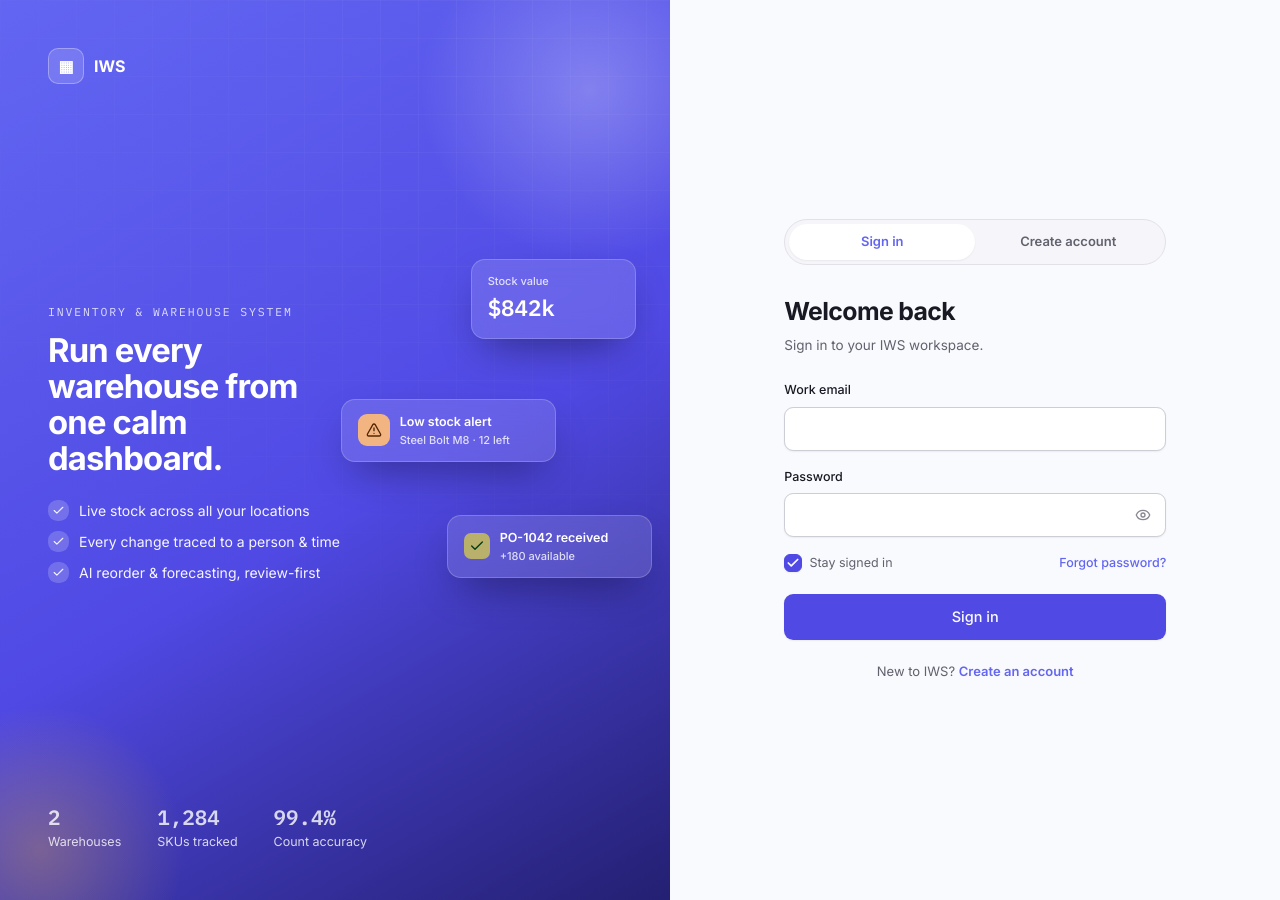
LoginPage password visibility toggle › reveals the password on click and re-masks on a second click
This screenshot has width=1280, height=900.
What coordinates should you click on to do the following:
click the button named "show password"
I would click on:
 (1143, 515)
Its box is [1126, 498, 1160, 532].
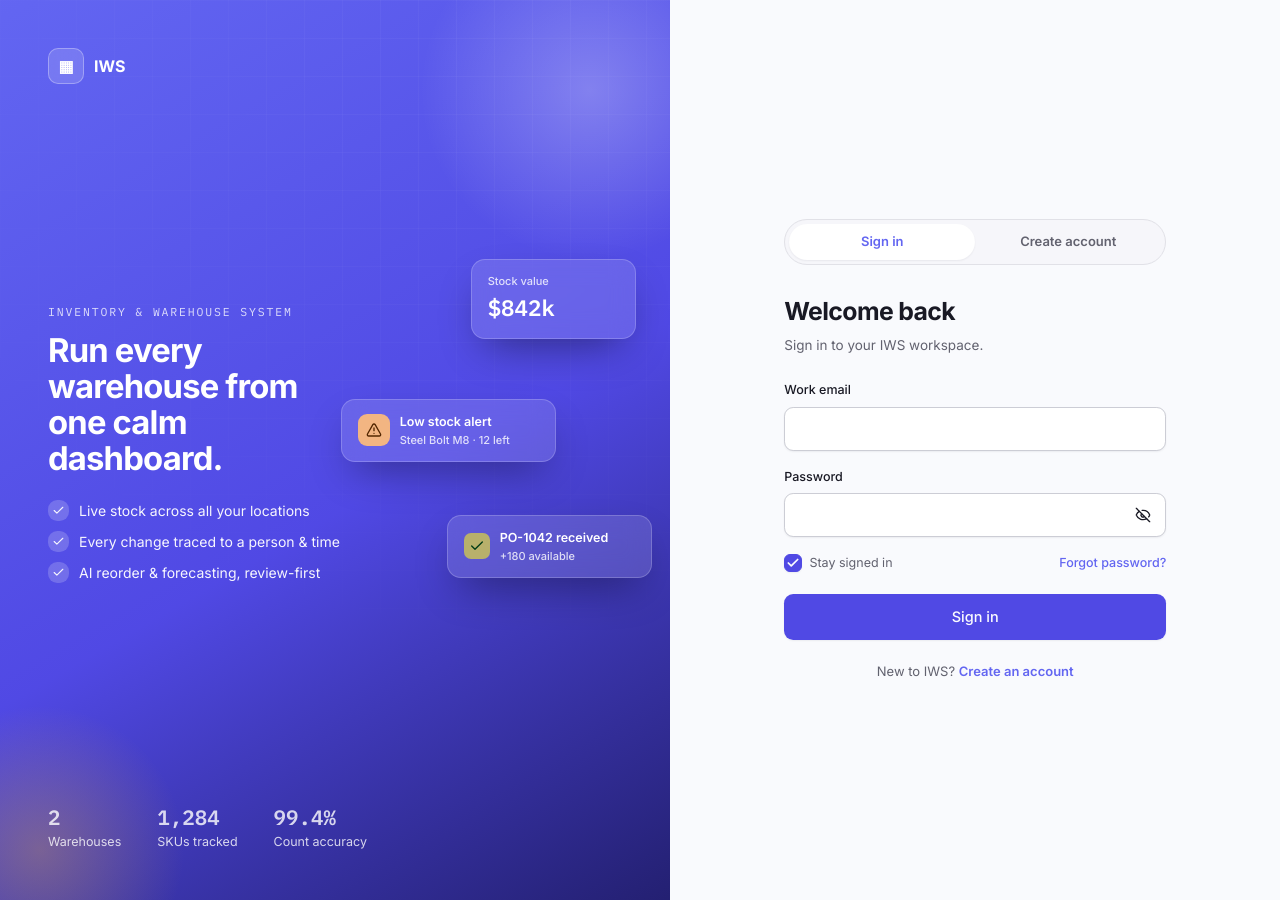
Expected: the button named "hide password" is shown
What coordinates should you click on to do the following:
click the button named "hide password"
I would click on:
 (1143, 515)
Its box is [1126, 498, 1160, 532].
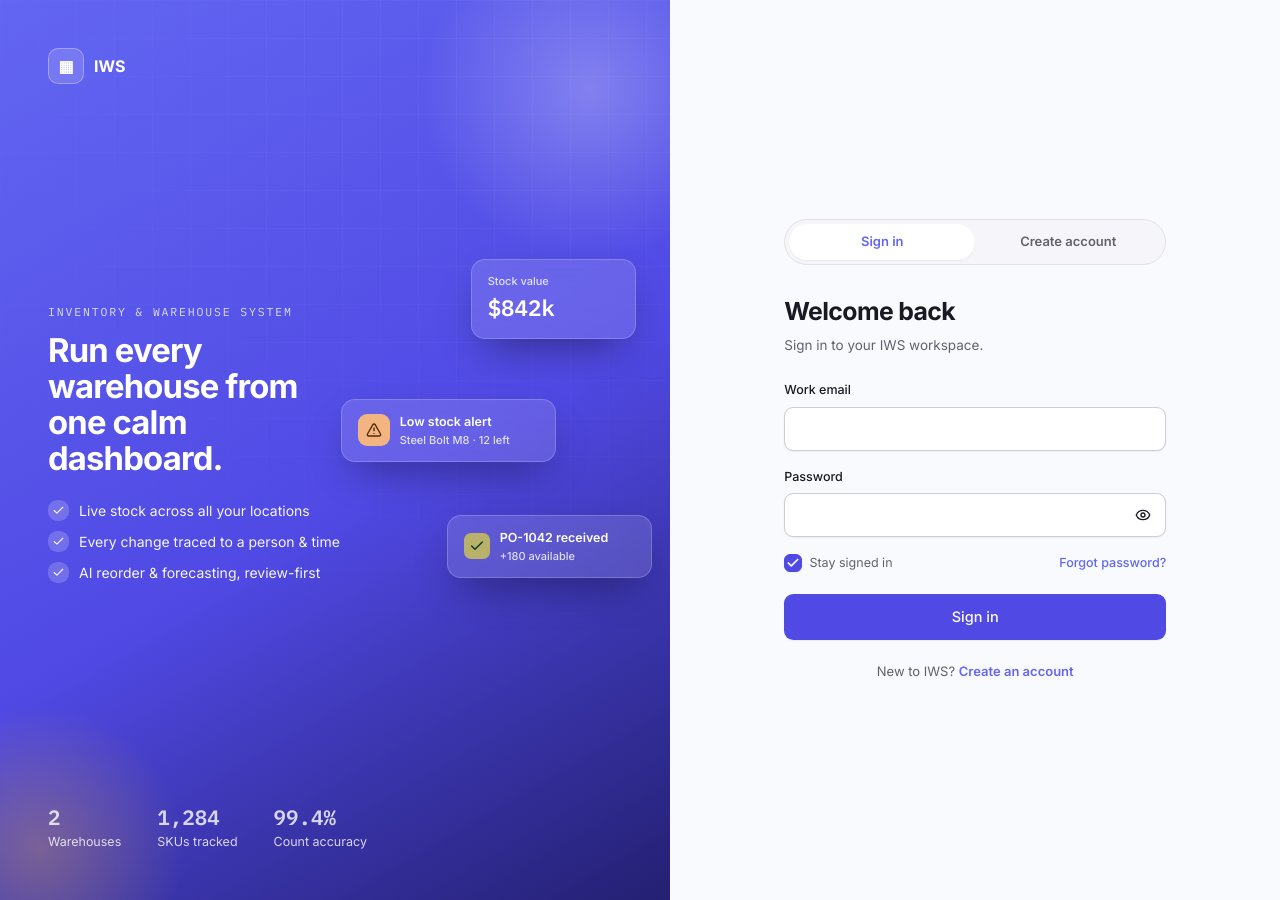
Expected: the button named "show password" is shown, [1126, 498, 1160, 532]
